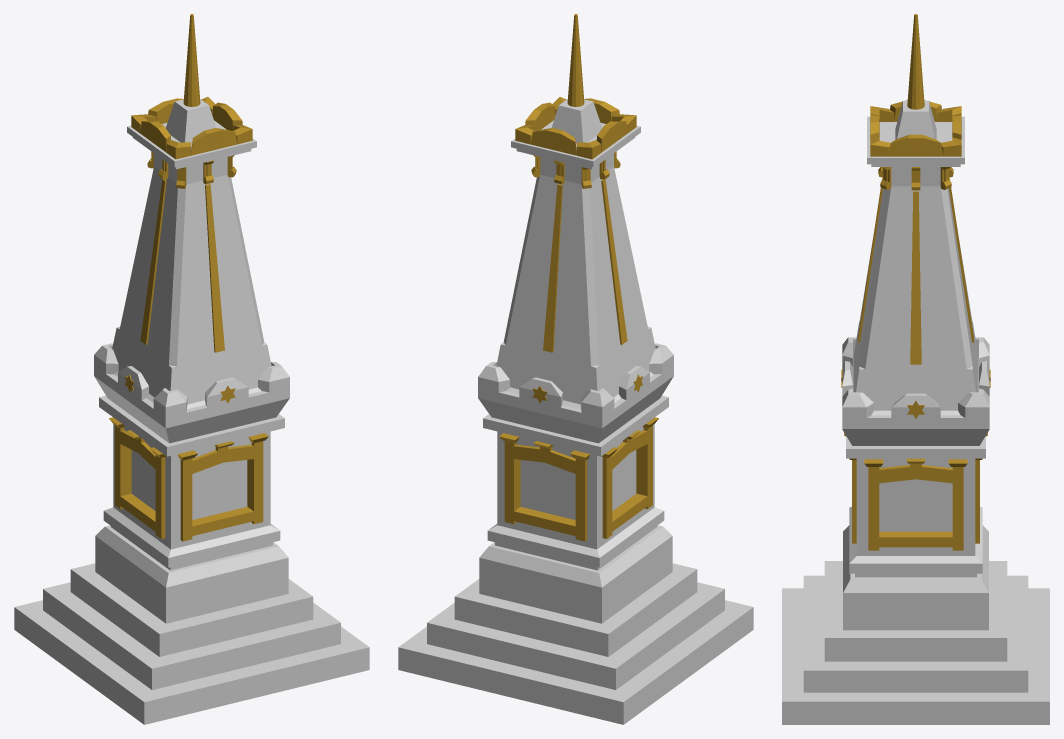
File: Tugu.fbx
The picture shows the model from 3 angles, left to right: view 1: azimuth 30°, elevation 25°; view 2: azimuth 150°, elevation 25°; view 3: azimuth 270°, elevation 25°; orthographic projection. The views are drawn at different scales.
Visible parts, largest first — view 1: Cube.004; view 2: Cube.004; view 3: Cube.004.
Boxes of the visible parts, <box> form: Cube.004: <box>14,14,369,724</box>; Cube.004: <box>398,14,753,724</box>; Cube.004: <box>782,14,1049,724</box>.
Bounding box in the file's own units: 137 × 370 × 137.
